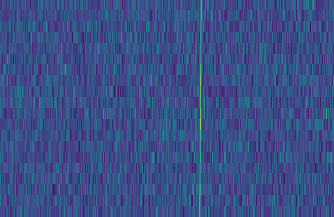signal: (195, 0, 205, 217)
